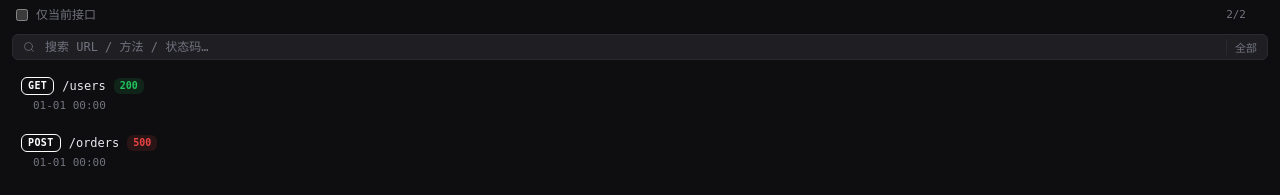
HistoryPanel › 关键字过滤 URL/方法/状态码
Check: the number of buttons with class "hp-row" is 2, box x1=8 y1=68 x2=1272 y2=121; x1=8 y1=125 x2=1272 y2=178
Step 1. Type "orders" into the field with class "hp-search" → (630, 47), box x1=43 y1=39 x2=1218 y2=55
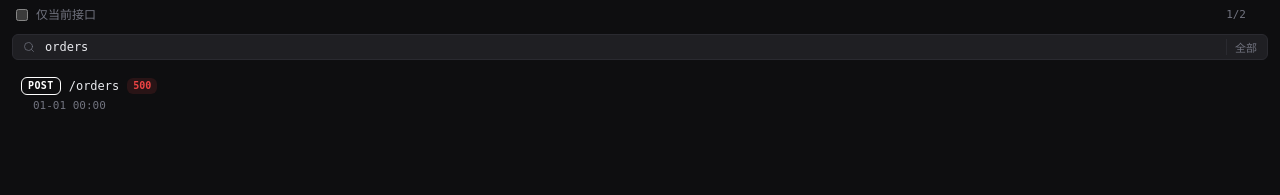
Check: the text "/orders" is shown, box x1=69 y1=79 x2=119 y2=93
Check: the number of buttons with class "hp-row" is 1, box x1=8 y1=68 x2=1272 y2=121
Step 2. Replace the text in the field with class "hp-search" with "500" → (630, 47), box x1=43 y1=39 x2=1218 y2=55
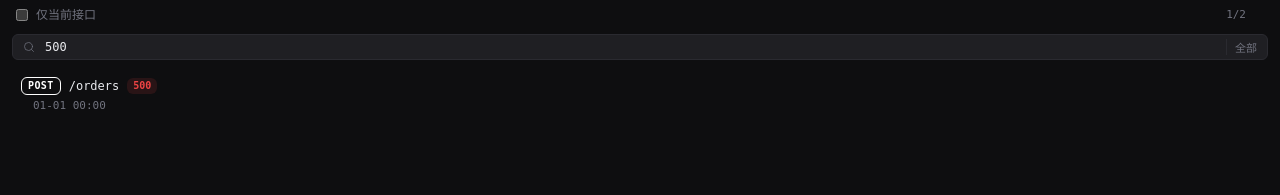
Check: the number of buttons with class "hp-row" is 1, box x1=8 y1=68 x2=1272 y2=121
Step 3. Replace the text in the field with class "hp-search" with "no-such-thing" → (630, 47), box x1=43 y1=39 x2=1218 y2=55
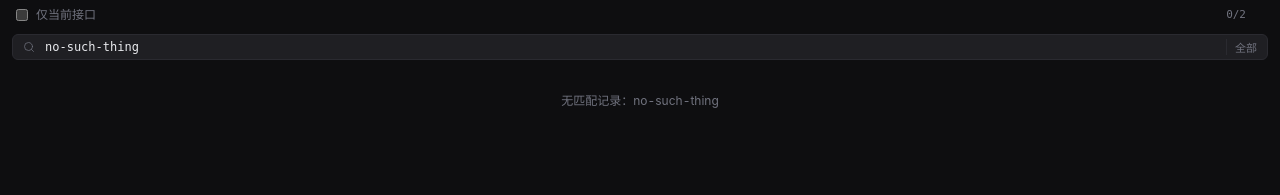
Check: no buttons with class "hp-row" are shown
Check: the text "无匹配记录" is shown, box x1=561 y1=93 x2=719 y2=108
